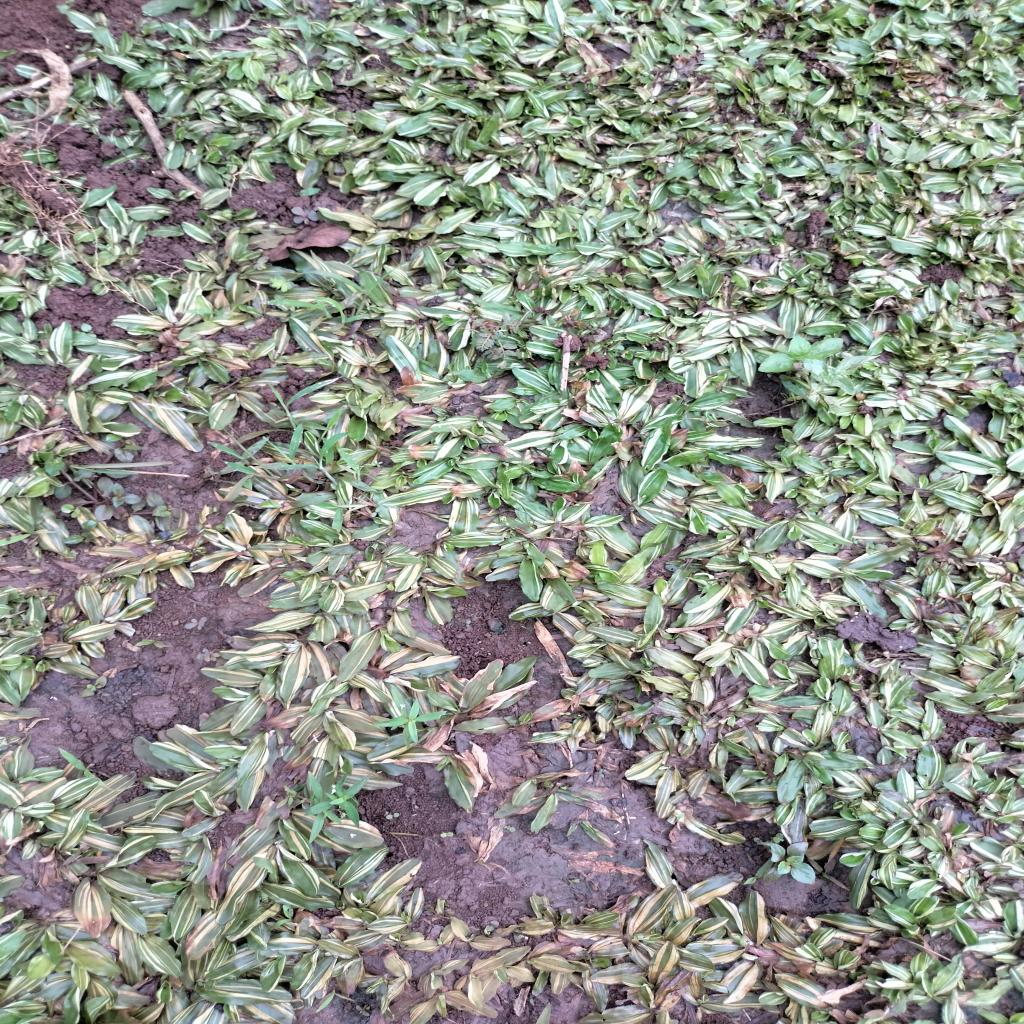akar wangi palsu: (283, 772, 366, 833), (375, 698, 447, 752)
bayi: (382, 809, 400, 822), (368, 507, 382, 520), (438, 830, 456, 840), (502, 823, 520, 833), (369, 460, 386, 468), (464, 618, 473, 630), (557, 710, 572, 716)
buah daun: (462, 312, 522, 350), (292, 202, 322, 228), (267, 272, 301, 292)
rambat atas: (264, 434, 372, 499), (262, 422, 319, 484), (206, 434, 272, 466), (259, 297, 334, 320), (61, 749, 110, 784), (269, 381, 300, 426), (220, 460, 282, 481), (335, 447, 364, 481), (272, 903, 295, 931)
tunggang besar: (757, 331, 847, 387)
ungu tunggang: (41, 432, 178, 547), (758, 836, 817, 884)
